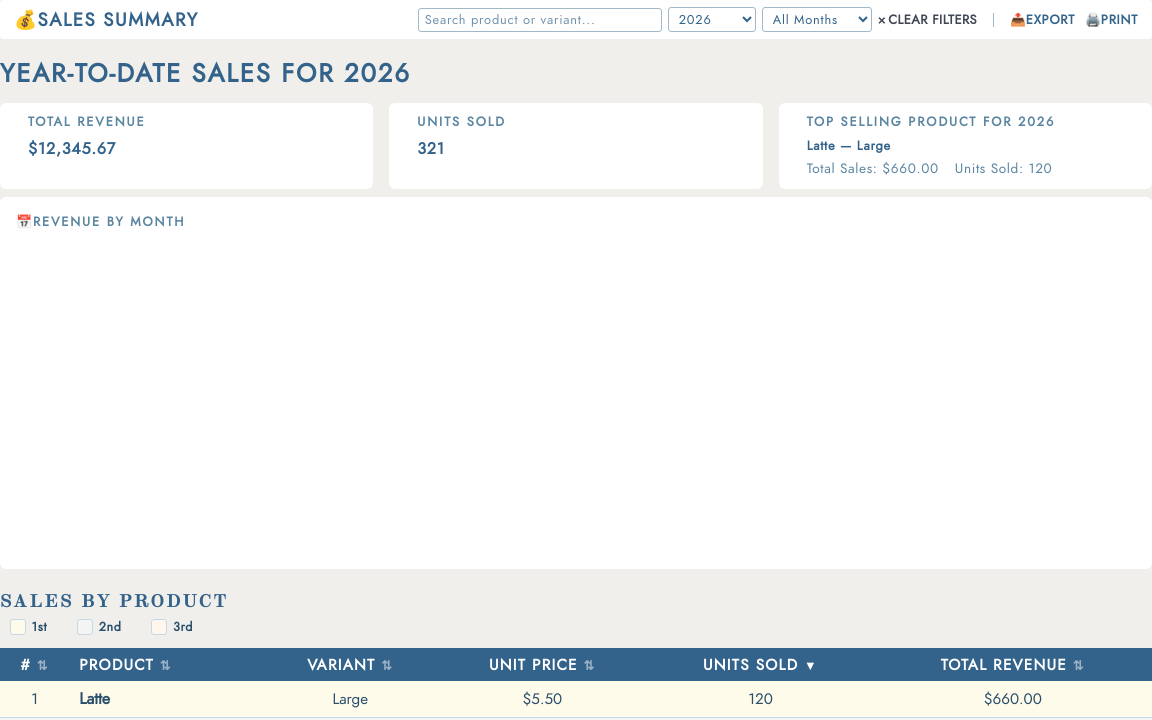
Test case: US5.4 Sales Summary Dashboard › renders no results message when search has no matches
Expected: the text "$12,345.67" is shown, top-left (28, 138), bottom-right (116, 160)
Type "xyz" into the field with placeholder "Search product or variant..." at (540, 20), box top-left (418, 8), bottom-right (662, 32)
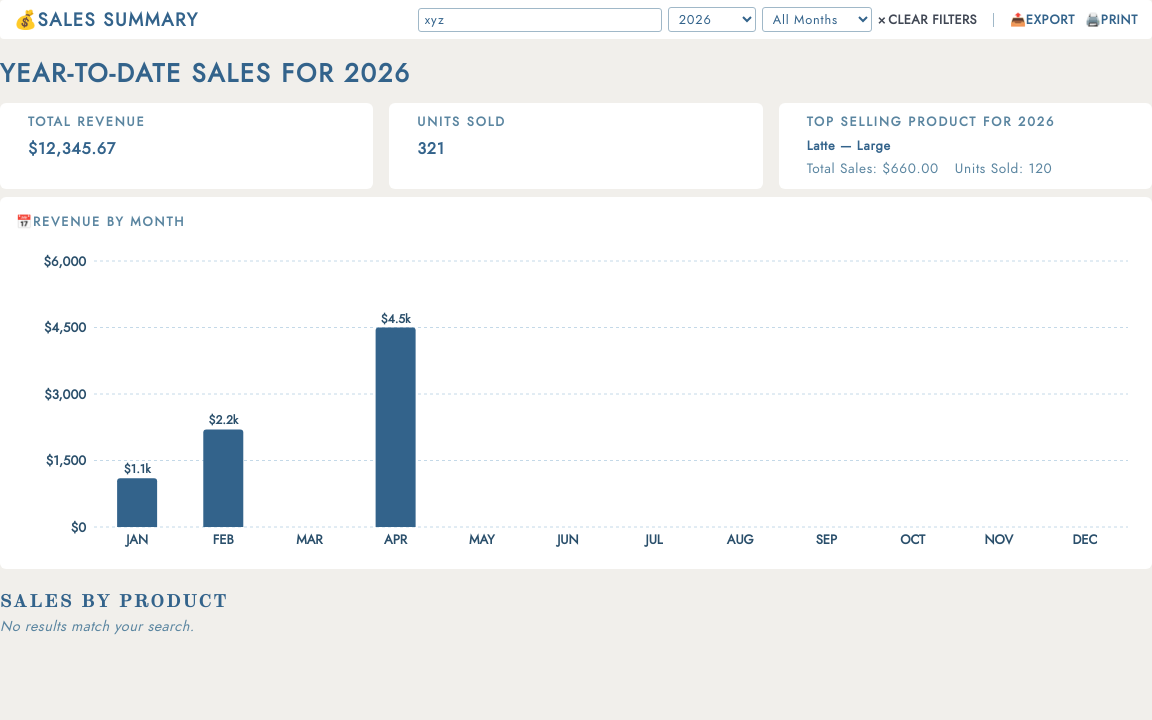
Expected: the text "No results match your search." is shown, top-left (0, 616), bottom-right (194, 636)
